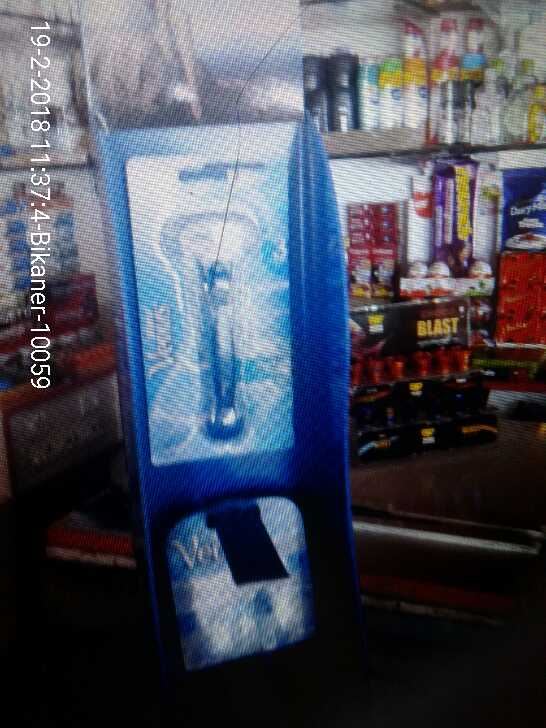venus: (127, 154, 298, 466), (164, 502, 329, 669)
